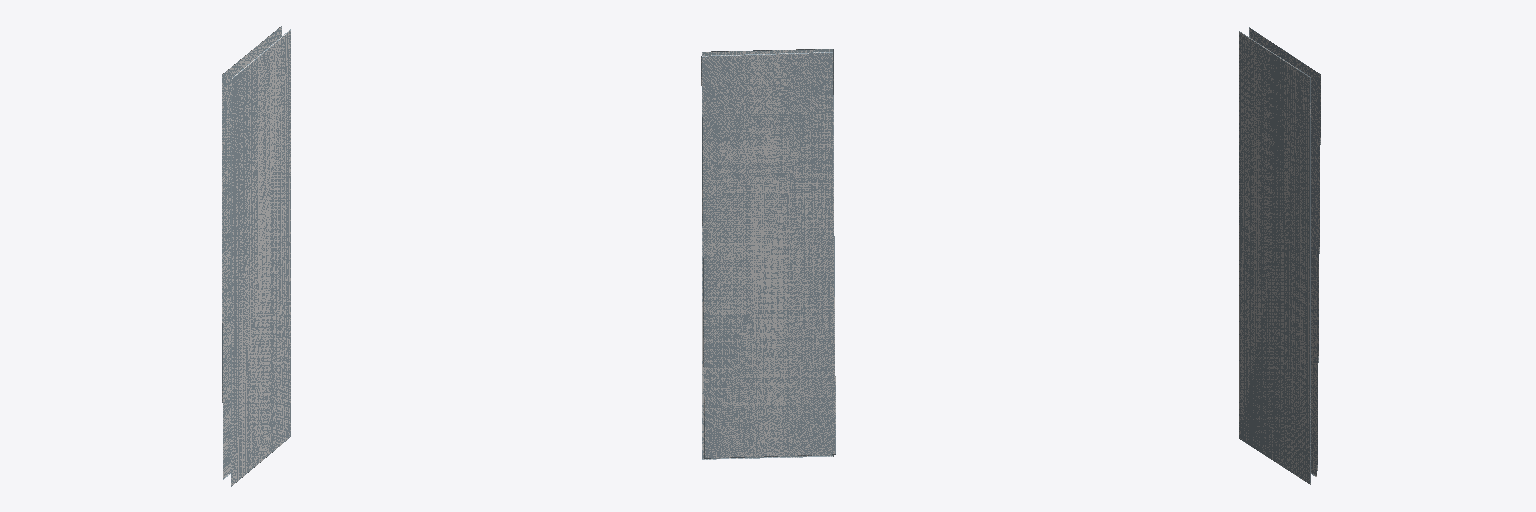
The model's file is doorin.obj.
3 renders of one model, left to right at view 1: azimuth 30°, elevation 25°; view 2: azimuth 150°, elevation 25°; view 3: azimuth 270°, elevation 25°, orthographic.
Visible parts, largest first — view 1: group_2.008_ID40, group_2.009_ID52.001; view 2: group_2.009_ID52.001, group_2.008_ID40; view 3: group_2.008_ID40, group_2.009_ID52.001.
Part boxes in pixels (x1,y1,x2,y2): group_2.008_ID40: (231, 29, 290, 486); group_2.009_ID52.001: (222, 26, 281, 479); group_2.009_ID52.001: (701, 52, 835, 458); group_2.008_ID40: (702, 49, 833, 459); group_2.008_ID40: (1239, 31, 1310, 484); group_2.009_ID52.001: (1249, 27, 1320, 476).
Size of the model in its own units: 0.1108 by 0.4283 by 0.078.